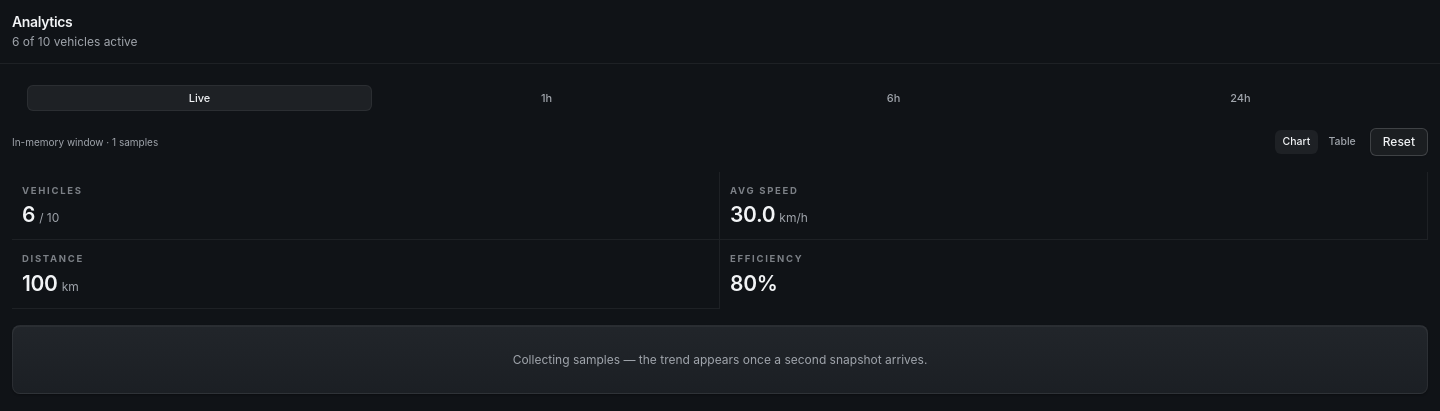
Test: AnalyticsPanel — persisted history › surfaces a transport failure as an error, not as empty data
Click the tab "1h".
click(546, 98)  # box [374, 84, 719, 111]
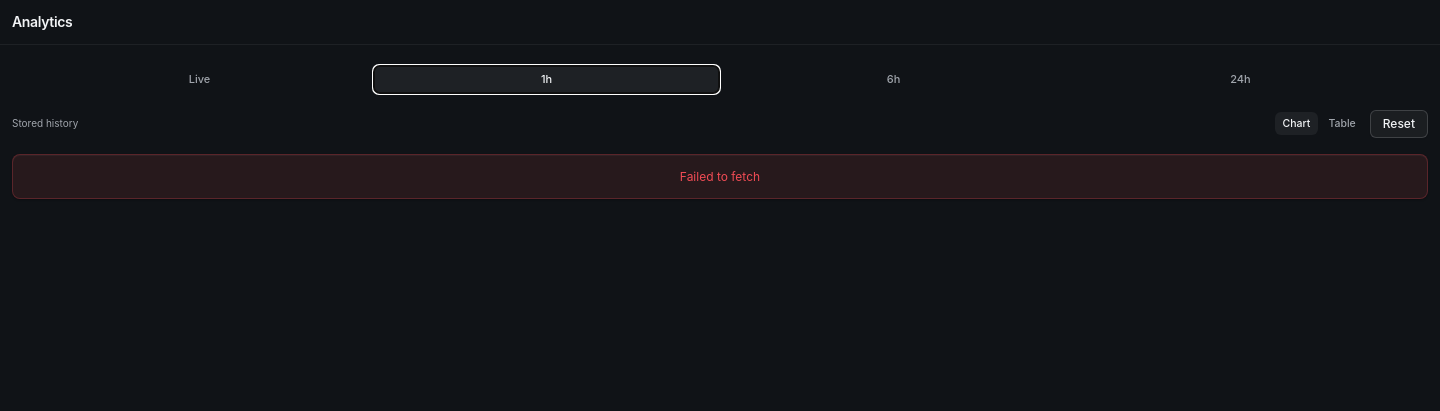
Result: the message reads "Failed to fetch" at [680, 168, 760, 184]
